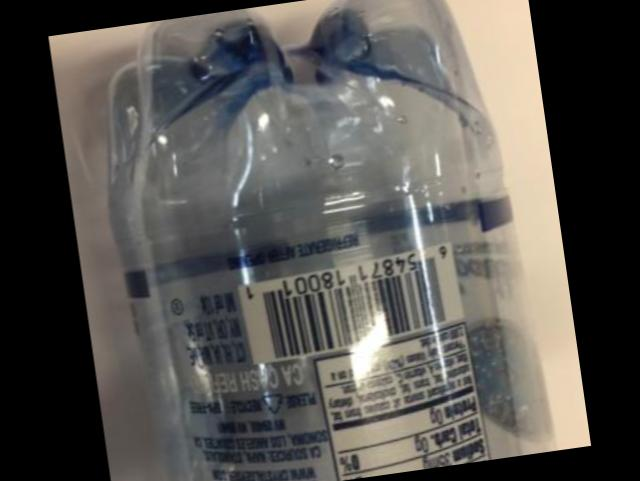plastic: (112, 0, 555, 481)
